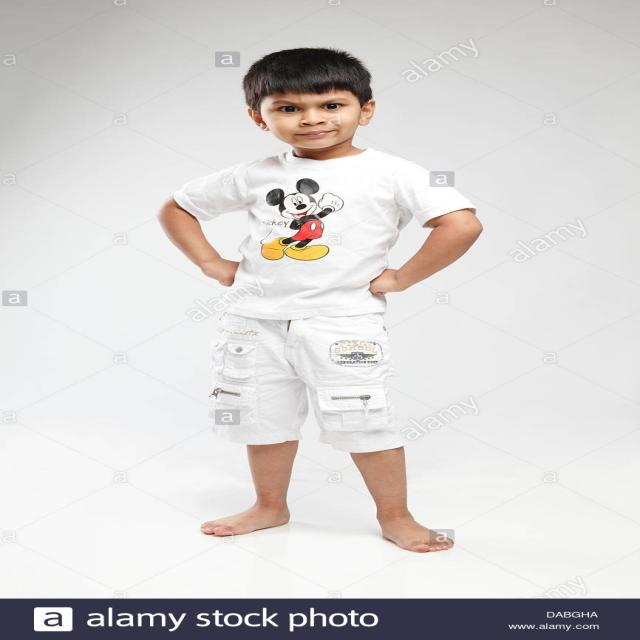child: (140, 50, 505, 567)
